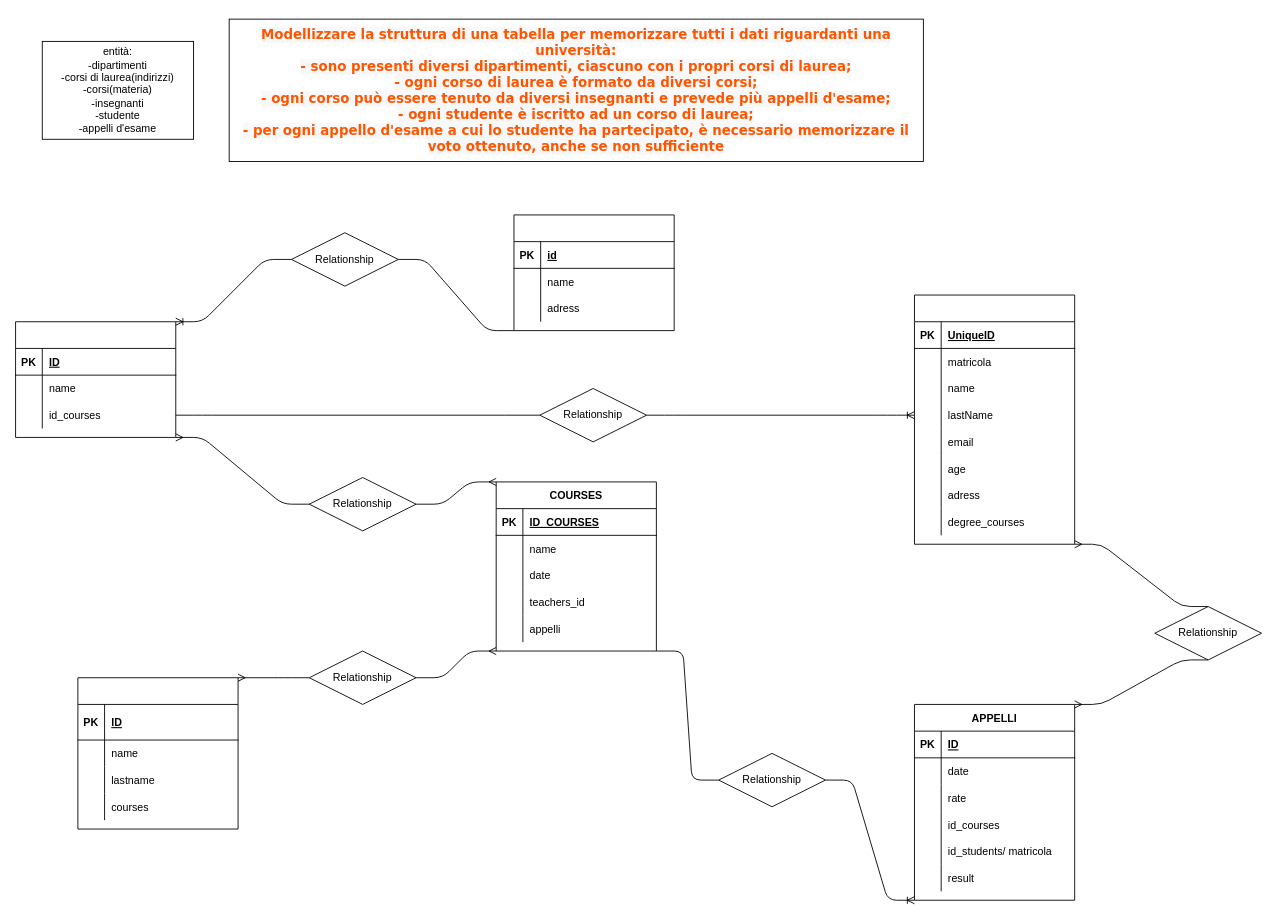
Some shapes in this 1277 by 923 pixel diagram are drawn without their labels. Each missing label, with the box of its shape:
DEGREE COURSES: (15, 321, 176, 437)
DEPARTMENTS: (513, 214, 674, 331)
STUDENTS: (914, 294, 1075, 544)
TEACHERS: (77, 677, 238, 829)
